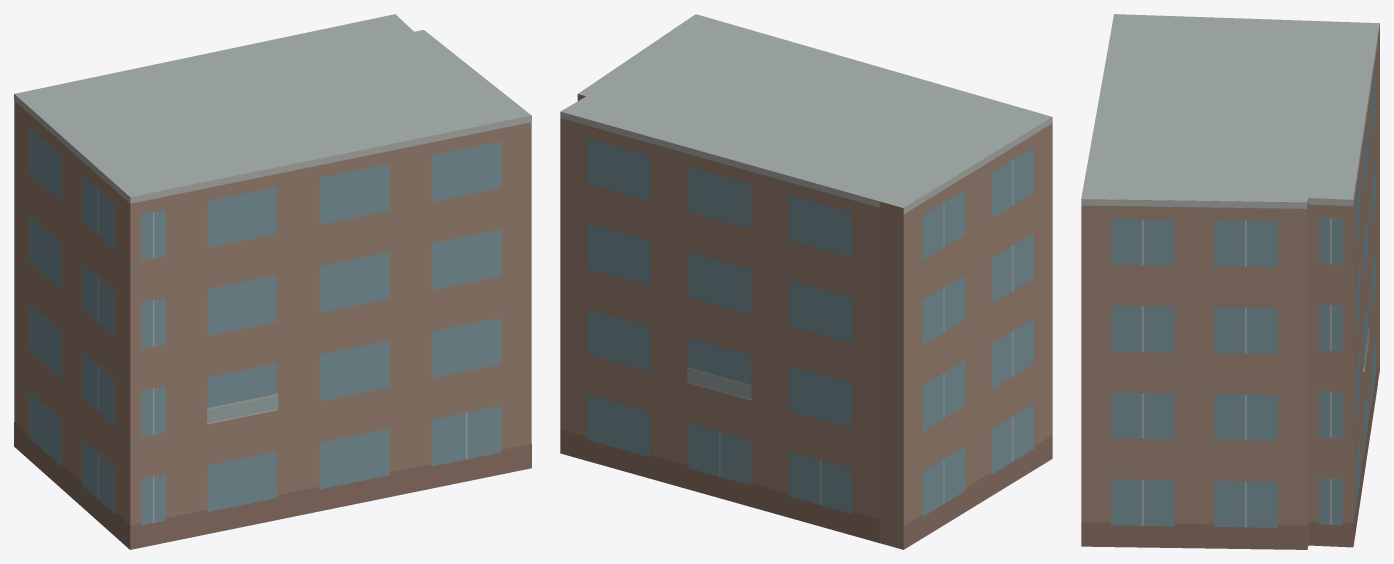
Rendered from survey-upis-33041082.glb.
3 renders of one model, left to right at view 1: azimuth 30°, elevation 25°; view 2: azimuth 150°, elevation 25°; view 3: azimuth 270°, elevation 25°, orthographic. The views are drawn at different scales.
Visible parts, largest first — view 1: survey-upis-33041082.tmp; view 2: survey-upis-33041082.tmp; view 3: survey-upis-33041082.tmp.
Part boxes in pixels (<box>): survey-upis-33041082.tmp: <box>14,14,531,549</box>; survey-upis-33041082.tmp: <box>560,14,1052,549</box>; survey-upis-33041082.tmp: <box>1081,14,1379,549</box>.
Bounding box in the file's own units: 15.24 × 13.1 × 10.22.
